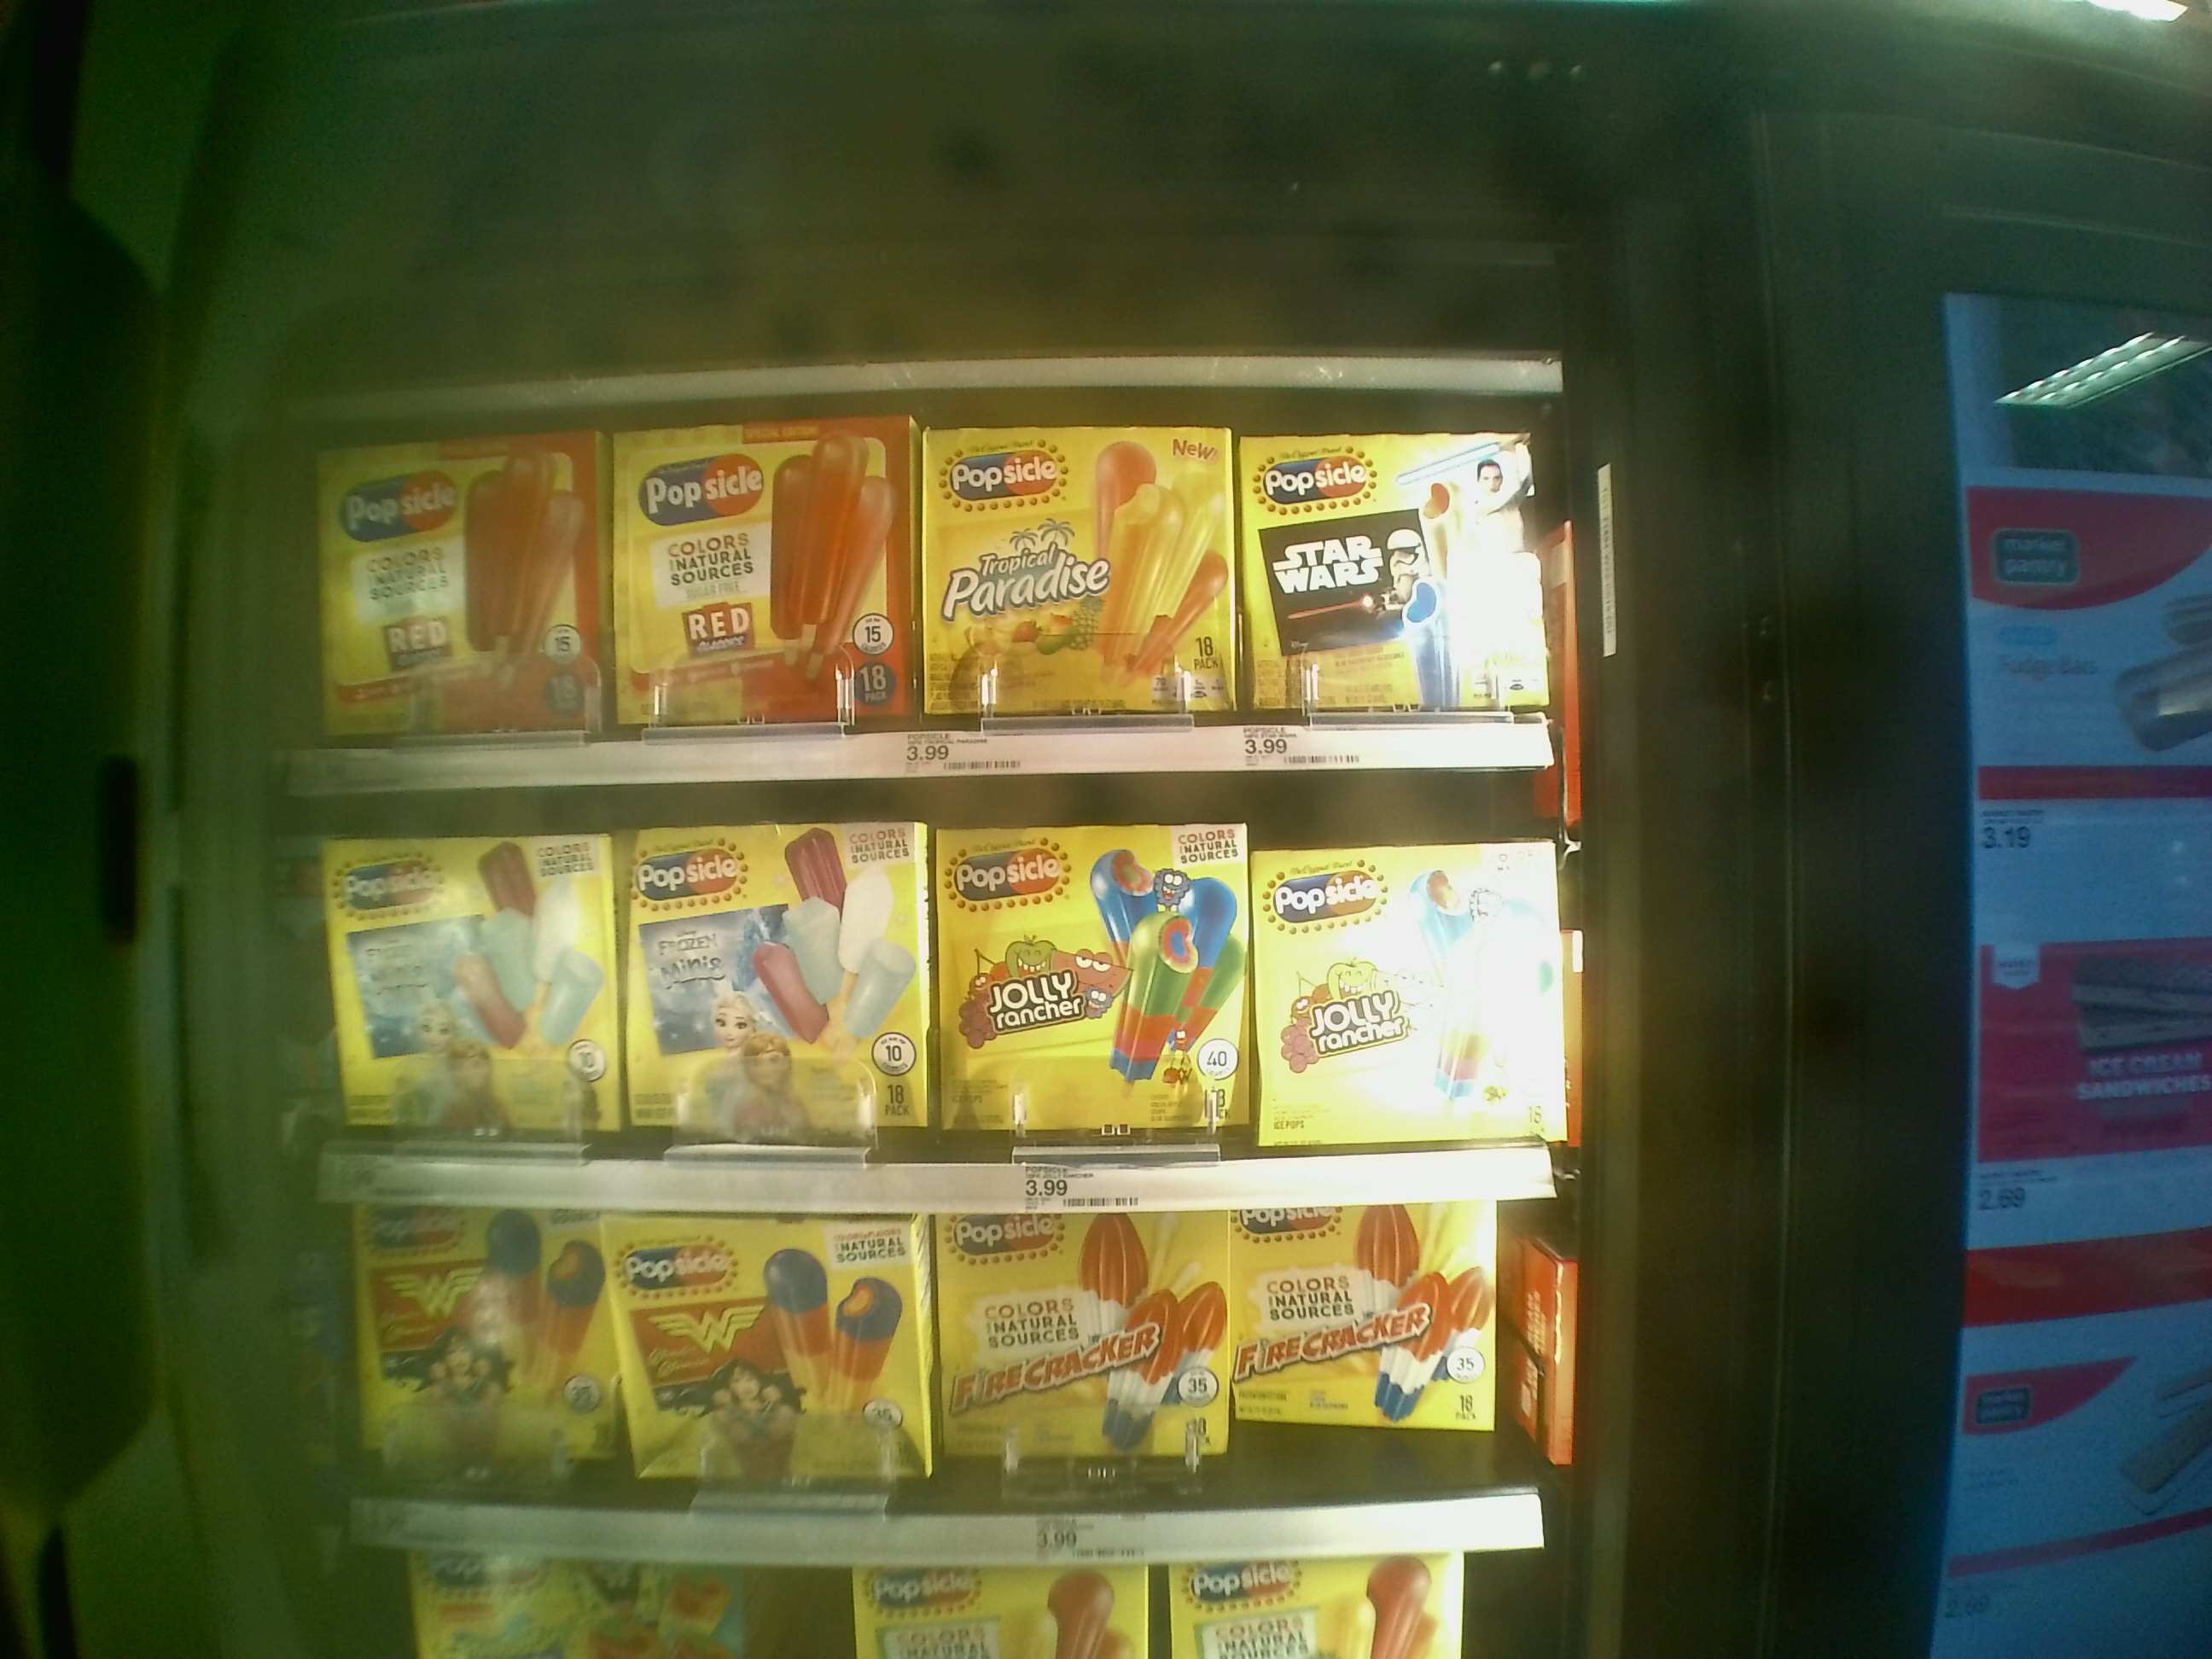frozen-food-shelf: (270, 793, 1583, 1218), (268, 404, 1543, 793), (268, 1215, 1587, 1570)
